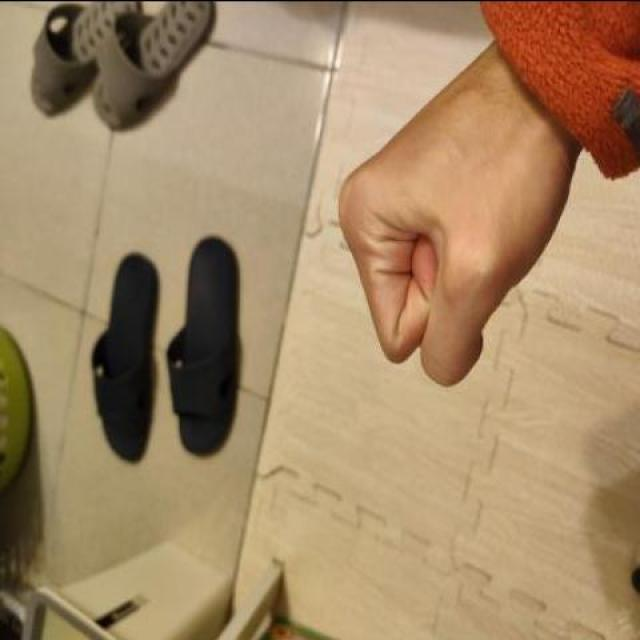Closed Hand: (336, 36, 592, 392)
